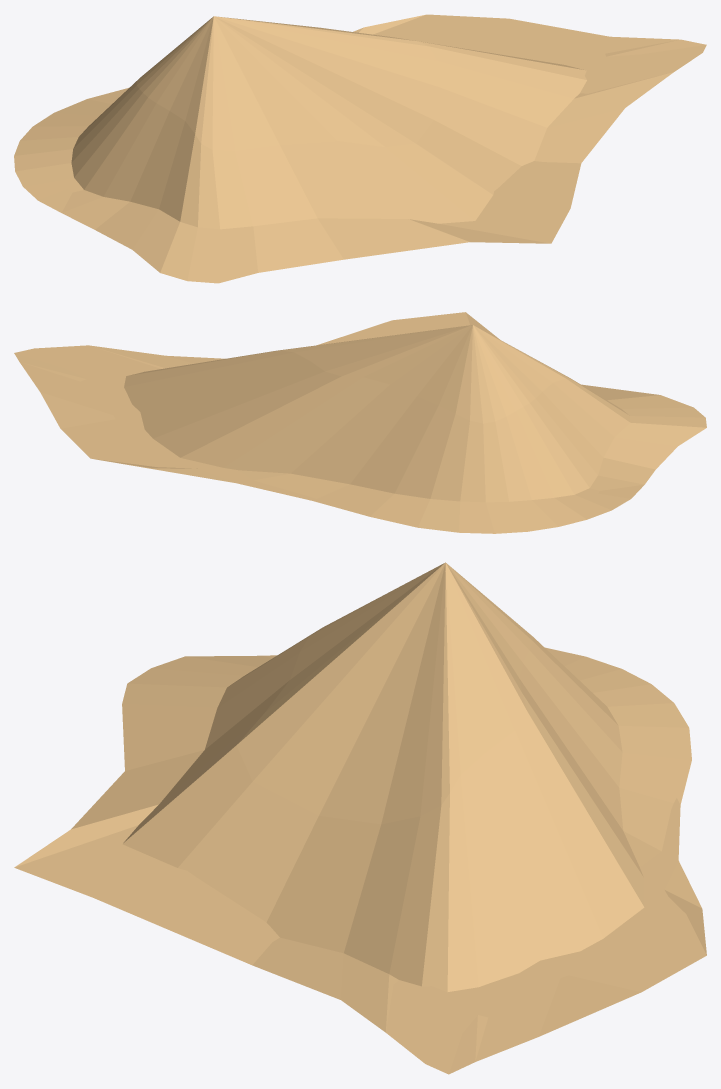
The model's file is sandhill2.fbx.
The picture shows the model from 3 angles, top to bottom: view 1: azimuth 30°, elevation 25°; view 2: azimuth 150°, elevation 25°; view 3: azimuth 270°, elevation 25°; orthographic projection. The views are drawn at different scales.
Visible parts, largest first — view 1: Cone; view 2: Cone; view 3: Cone.
Part boxes in pixels (x1,y1,x2,y2): Cone: [14, 14, 706, 283]; Cone: [14, 312, 706, 533]; Cone: [14, 562, 706, 1074].
Size of the model in its own units: 3777 by 890 by 2594.
